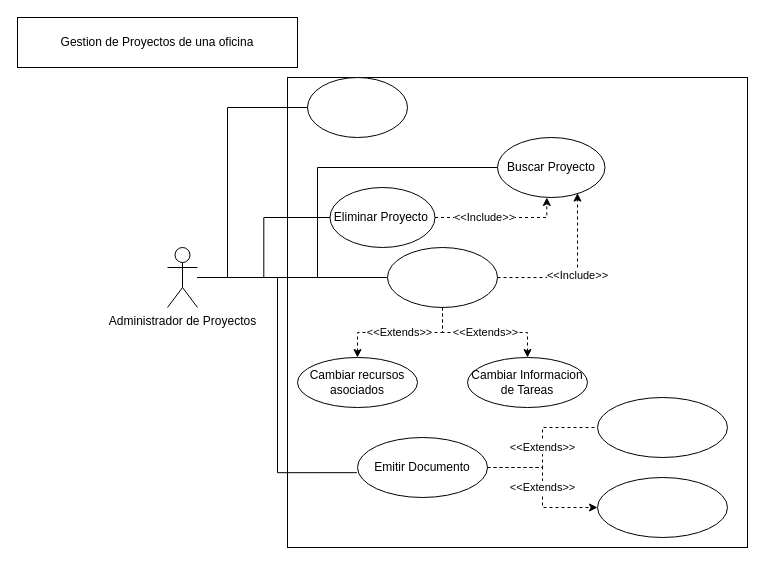
The diagram is 765 pixels wide and 565 high, and some of its shapes have lost their labels. Each missing label, with the centre of its shape:
"Actualizar Proyecto" belongs at pixel 442 277.
"Agregar Proyecto" belongs at pixel 357 107.
"Enviar Documento por el sitio web" belongs at pixel 662 427.
"Enviar Documento por email" belongs at pixel 662 507.
